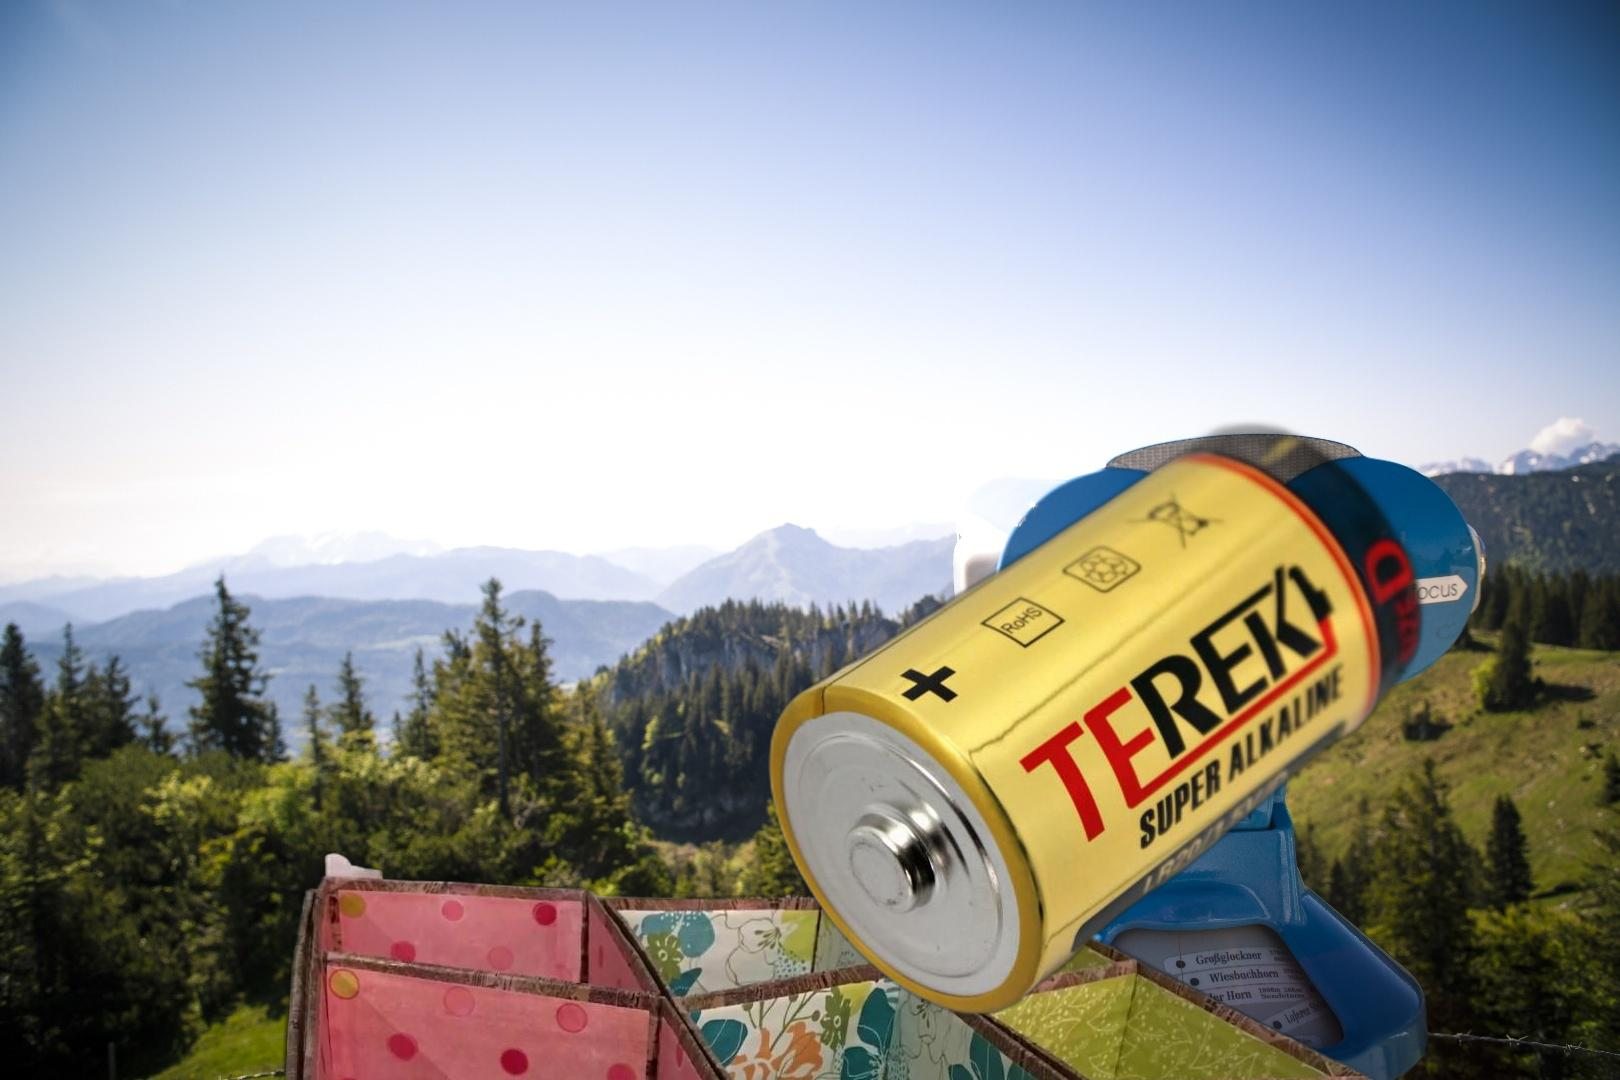battery: (762, 418, 1430, 1021)
trashbox-cardboard: (260, 847, 1385, 1080)
